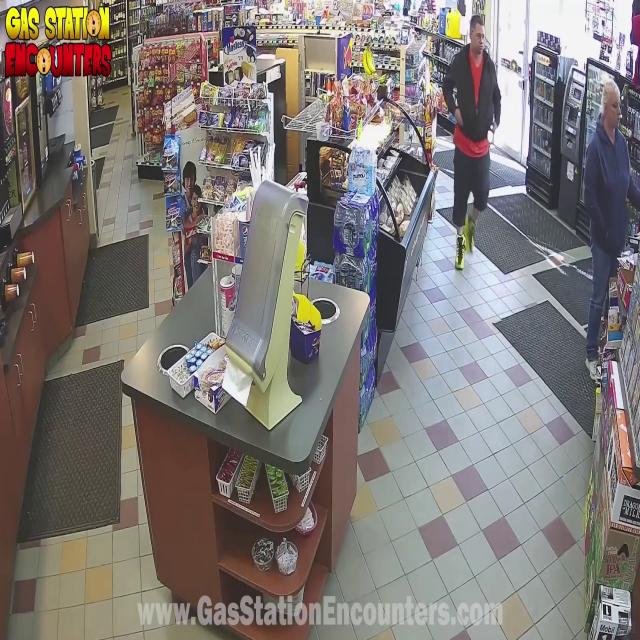normal: (561, 74, 635, 385), (433, 3, 507, 267)
